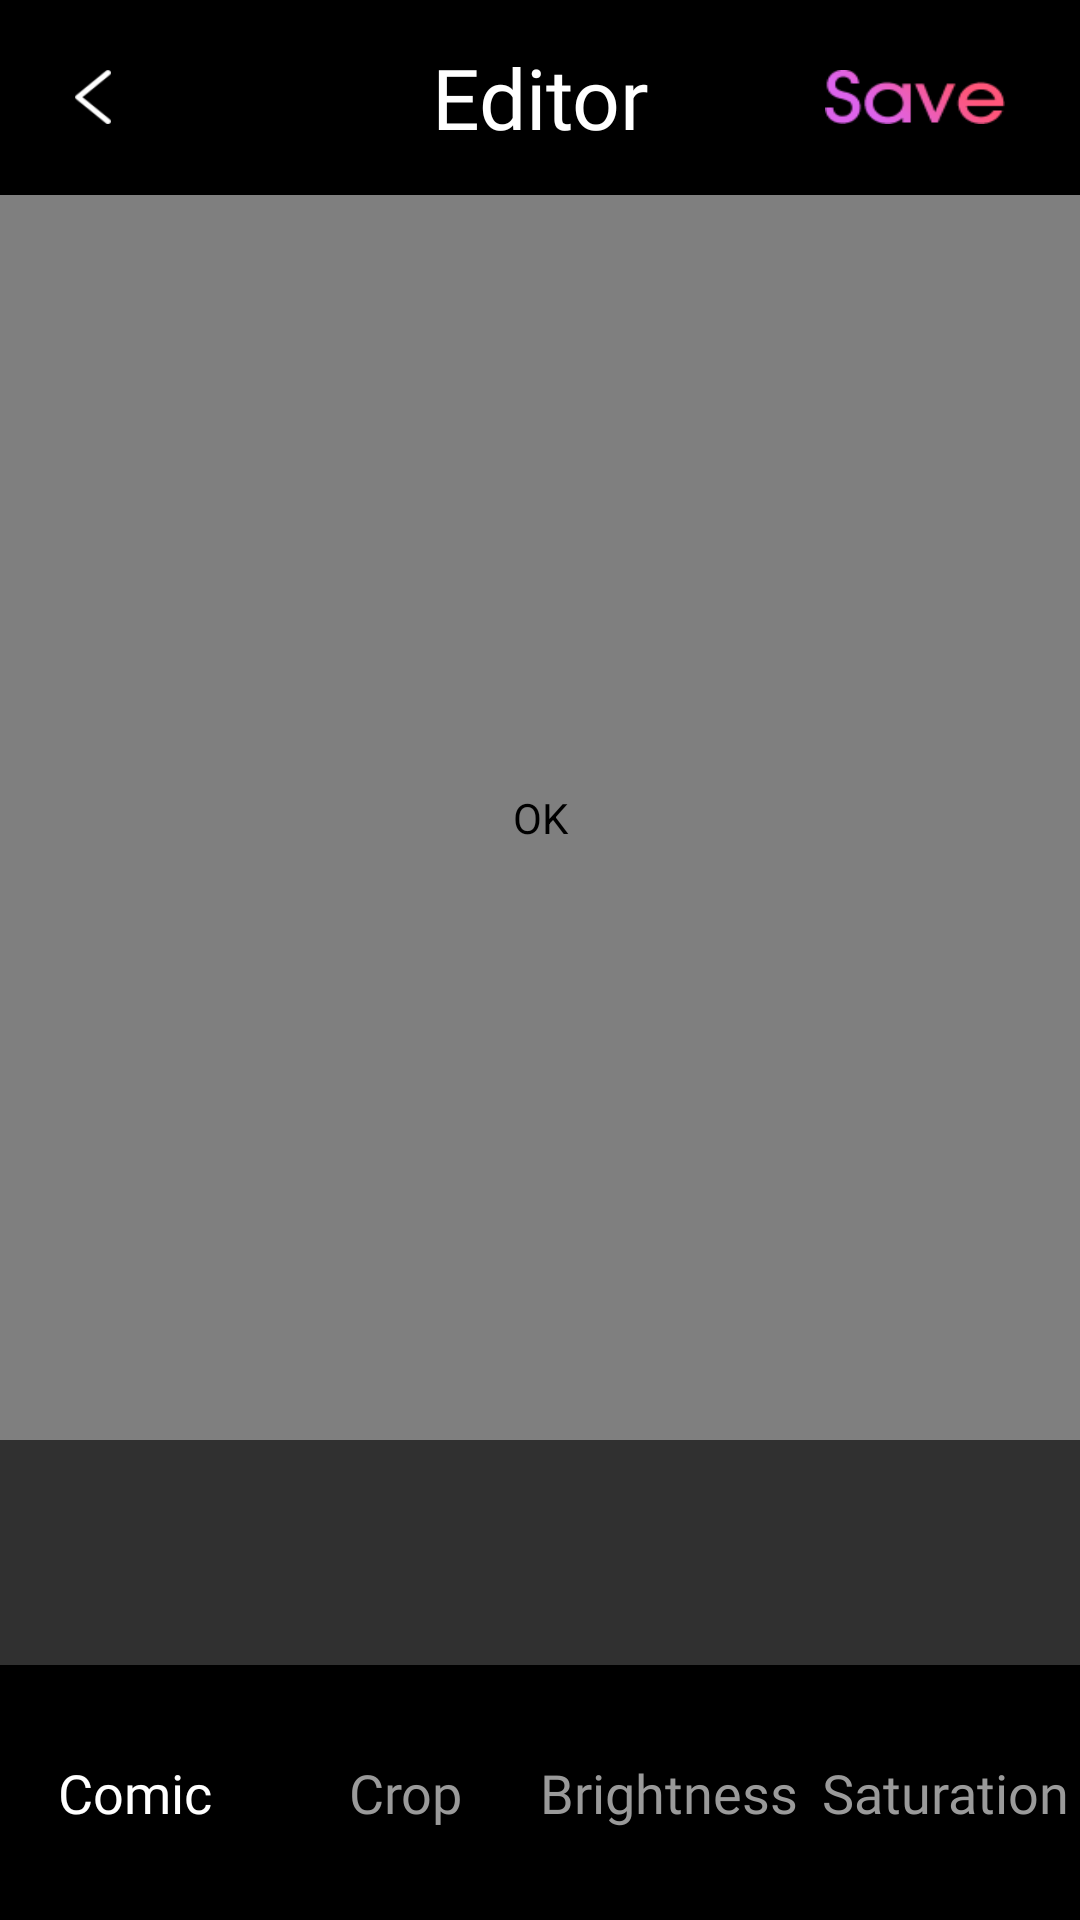

Point at icon controls on the screen. Image size 1080*1920, points as (x=x, y=y).
back: (x=93, y=97)
